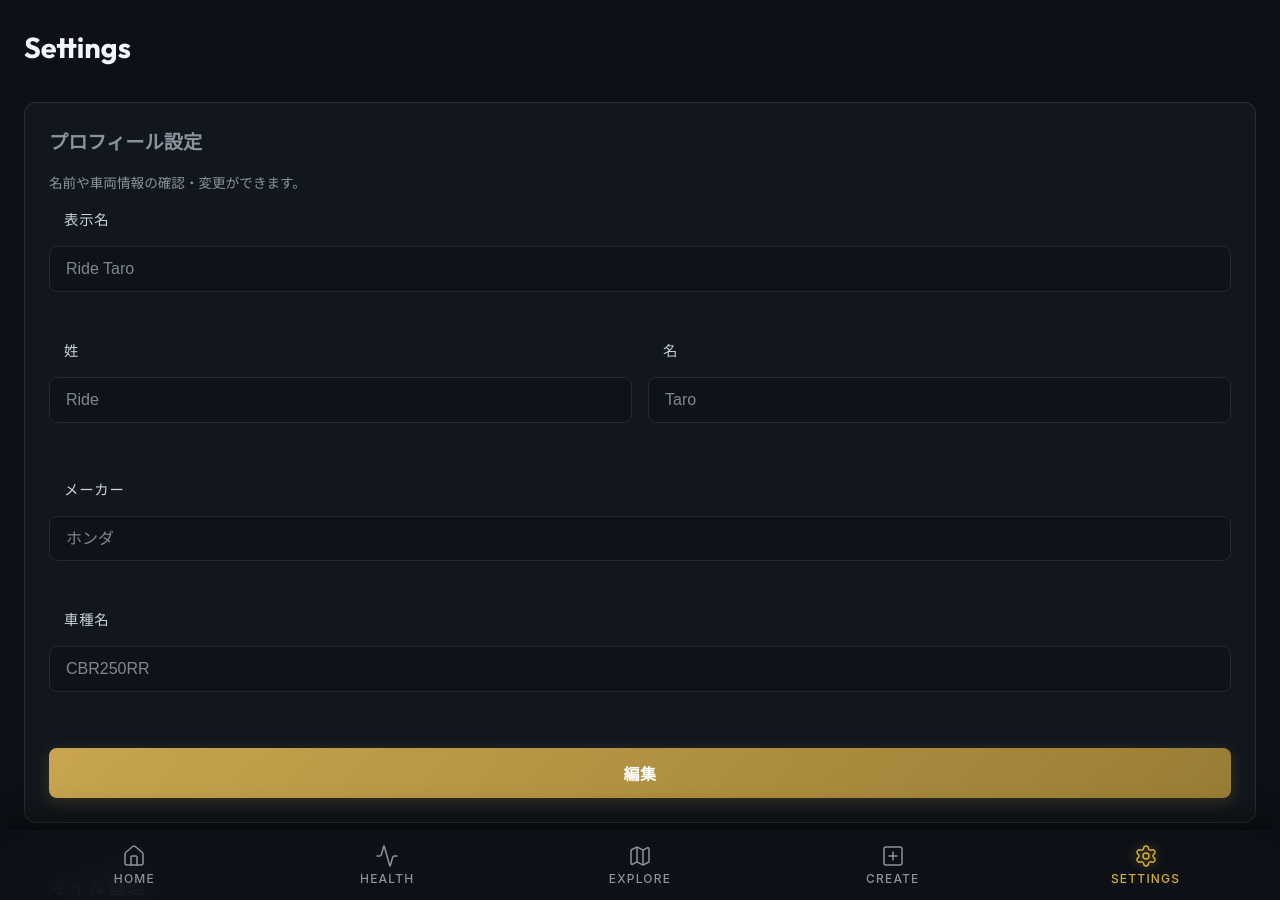
Test: SettingPage › ST-UT-004 プロフィール保存正常系: PUT と refreshProfile を実行する
Click the button "編集" at (640, 773), box 49,748 -> 1231,798
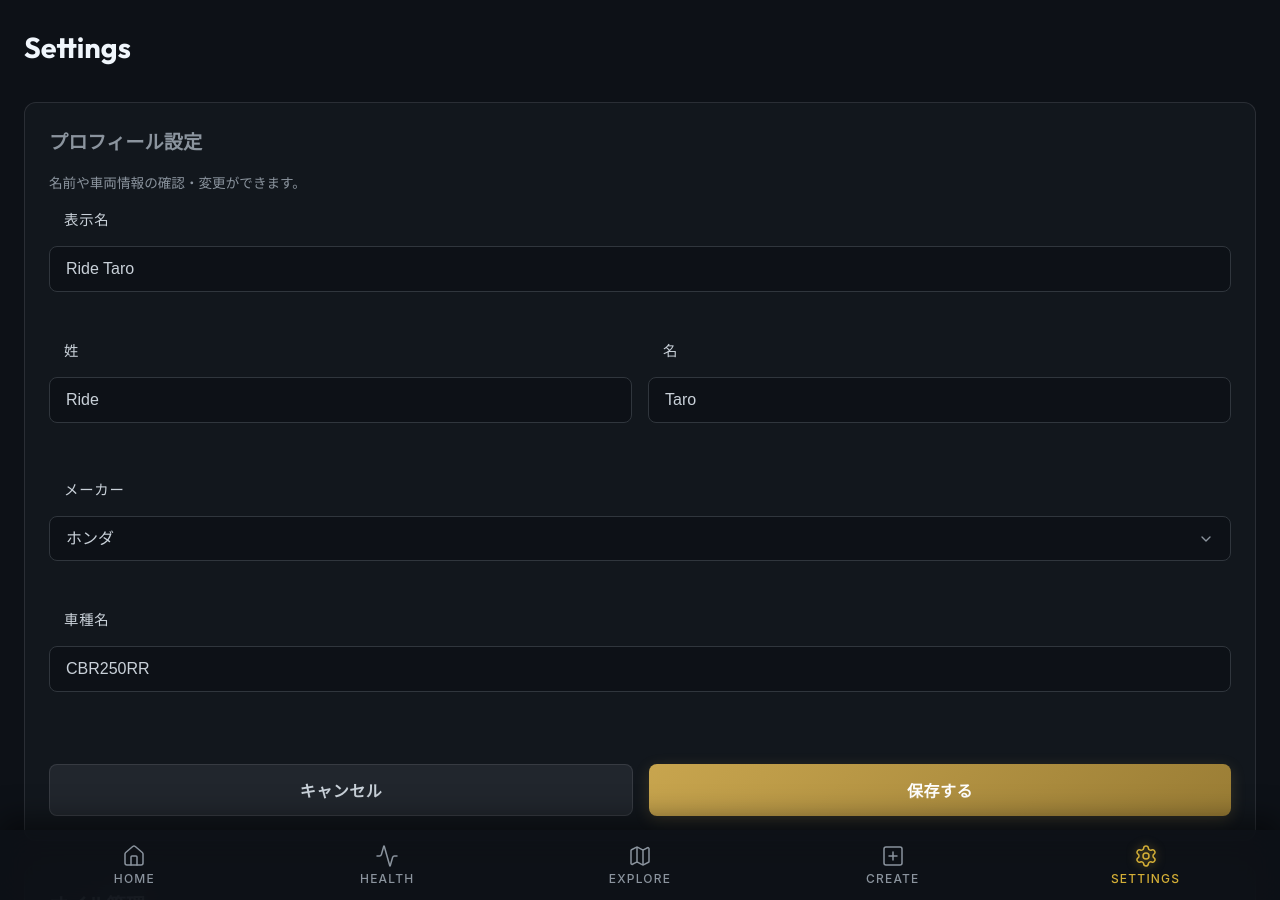
Replace the text in the field below "表示名" with "New Display" at (640, 269), box 49,246 -> 1231,292
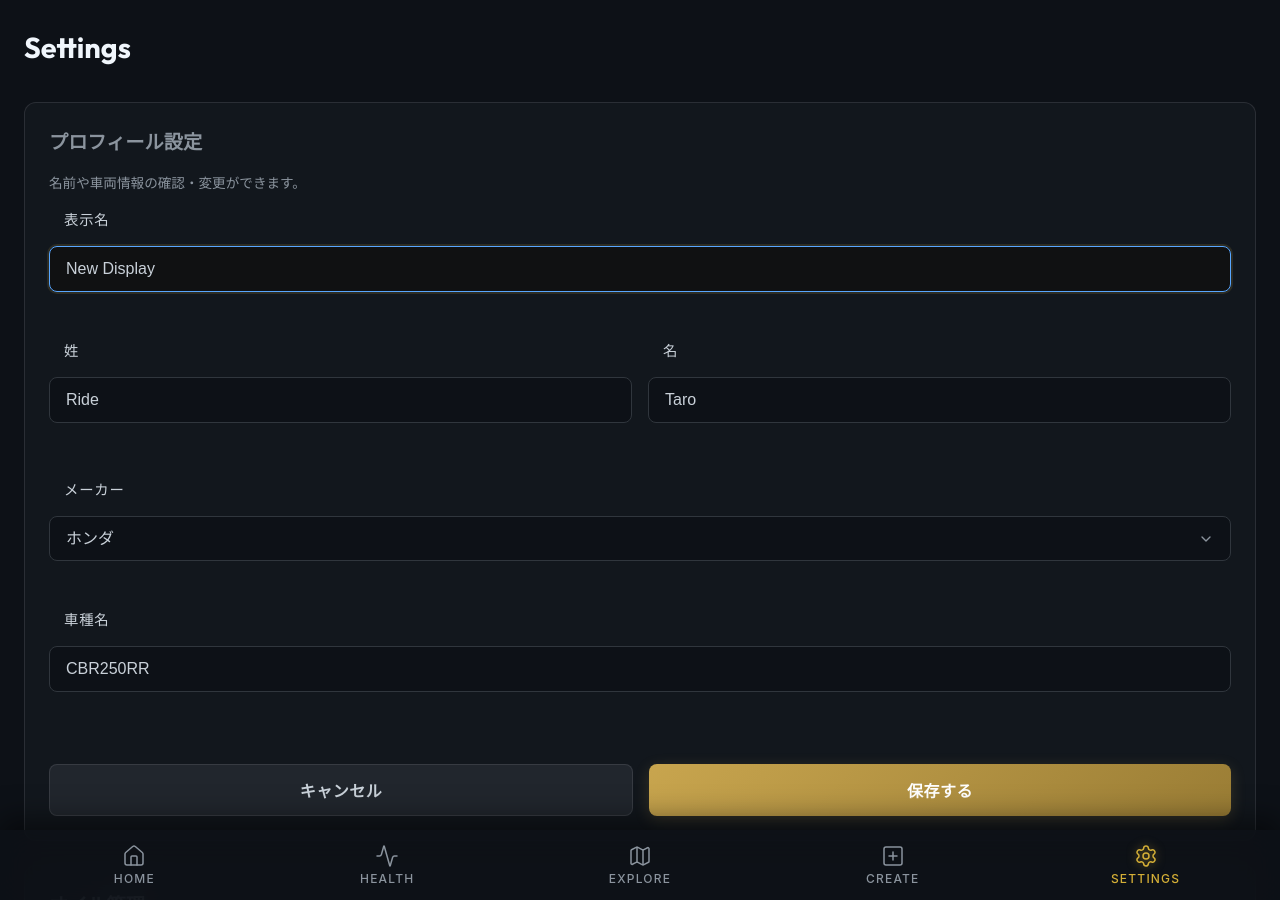
Select "ヤマハ" in the dropdown at (640, 539), box 49,516 -> 1231,561
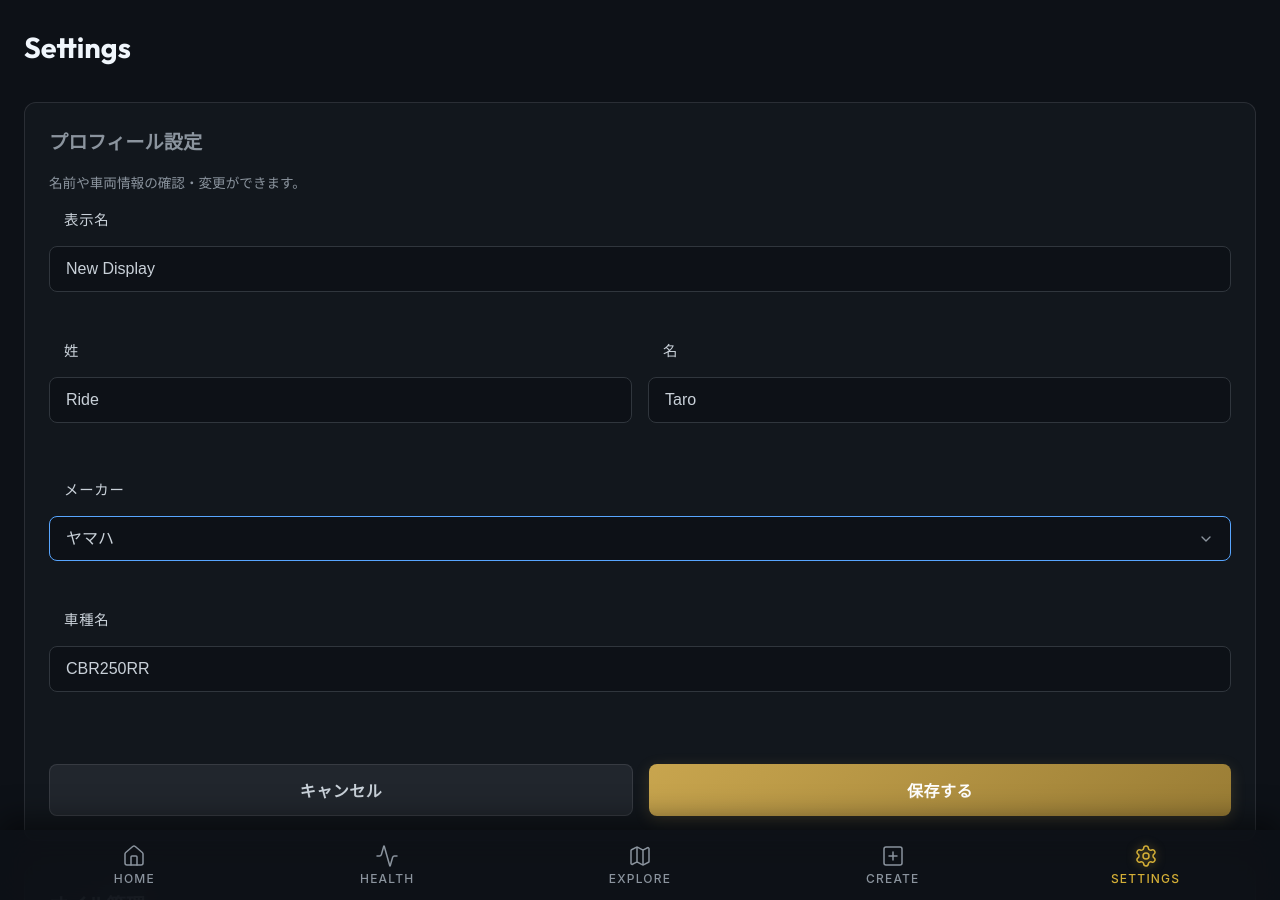
Replace the text in the field below "車種名" with "MT-07" at (640, 669), box 49,646 -> 1231,692
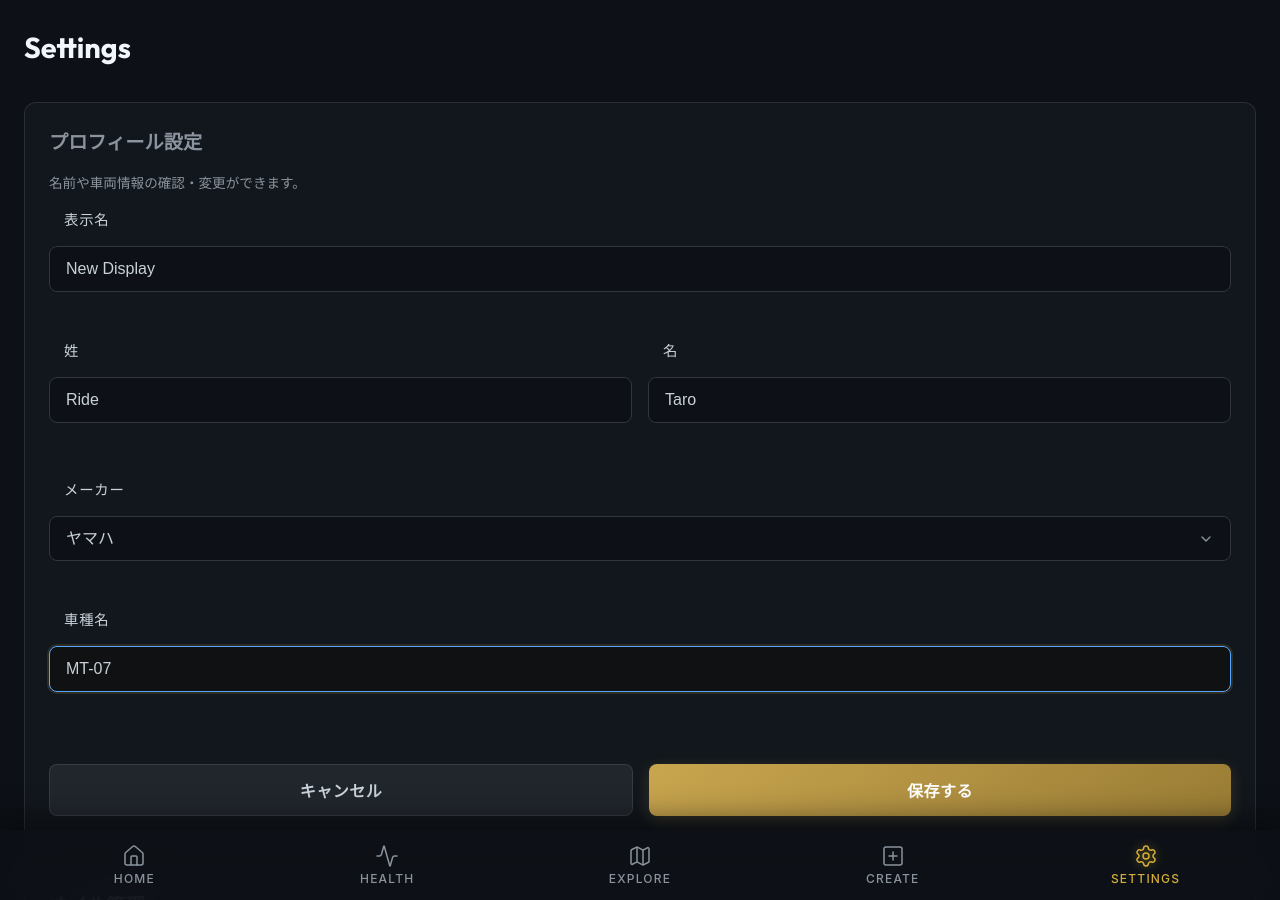
Click the button "保存する" at (940, 790), box 649,764 -> 1231,816
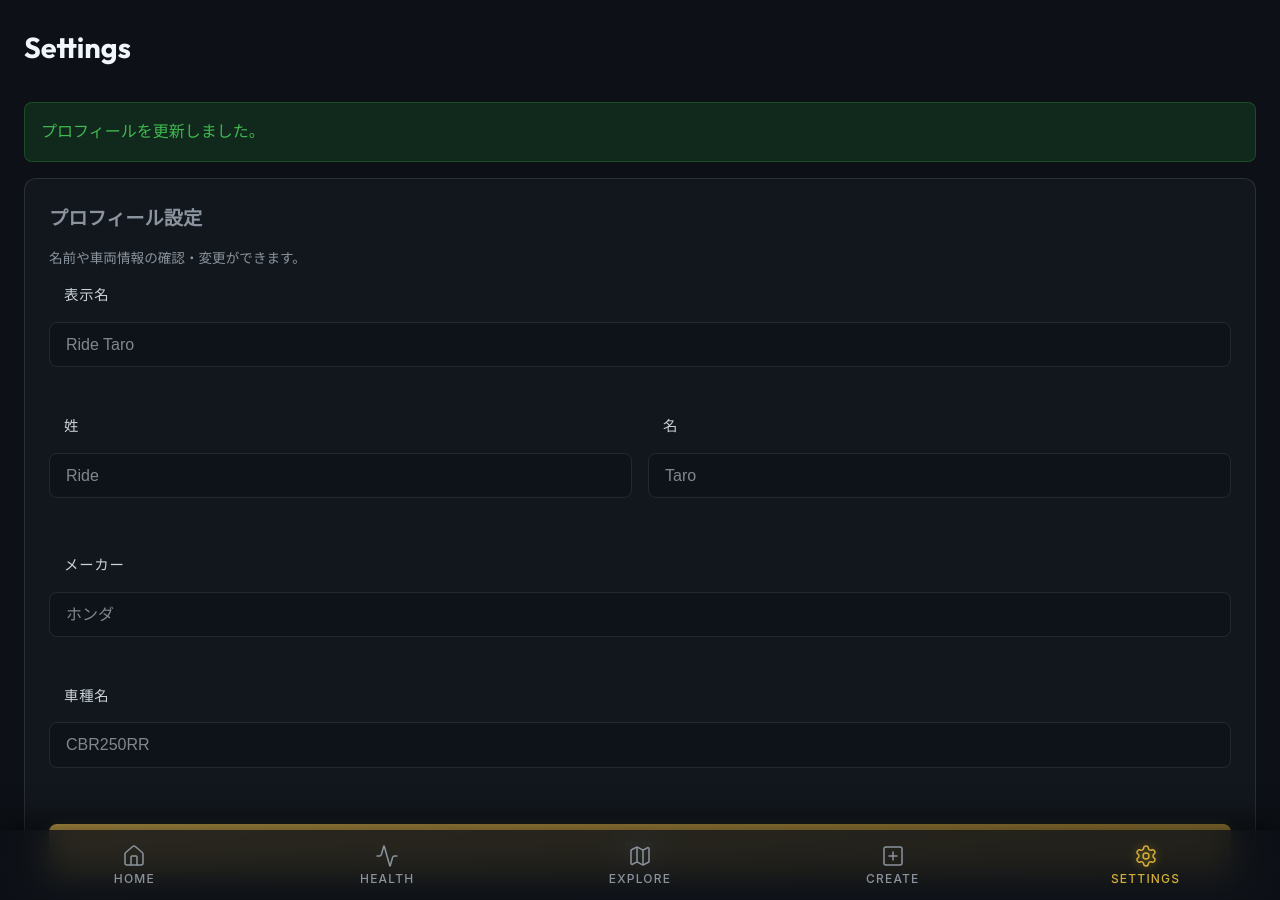
Check: the text "プロフィールを更新しました。" is shown, box 24,102 -> 1256,162
Check: the button "編集" is shown, box 49,824 -> 1231,873
